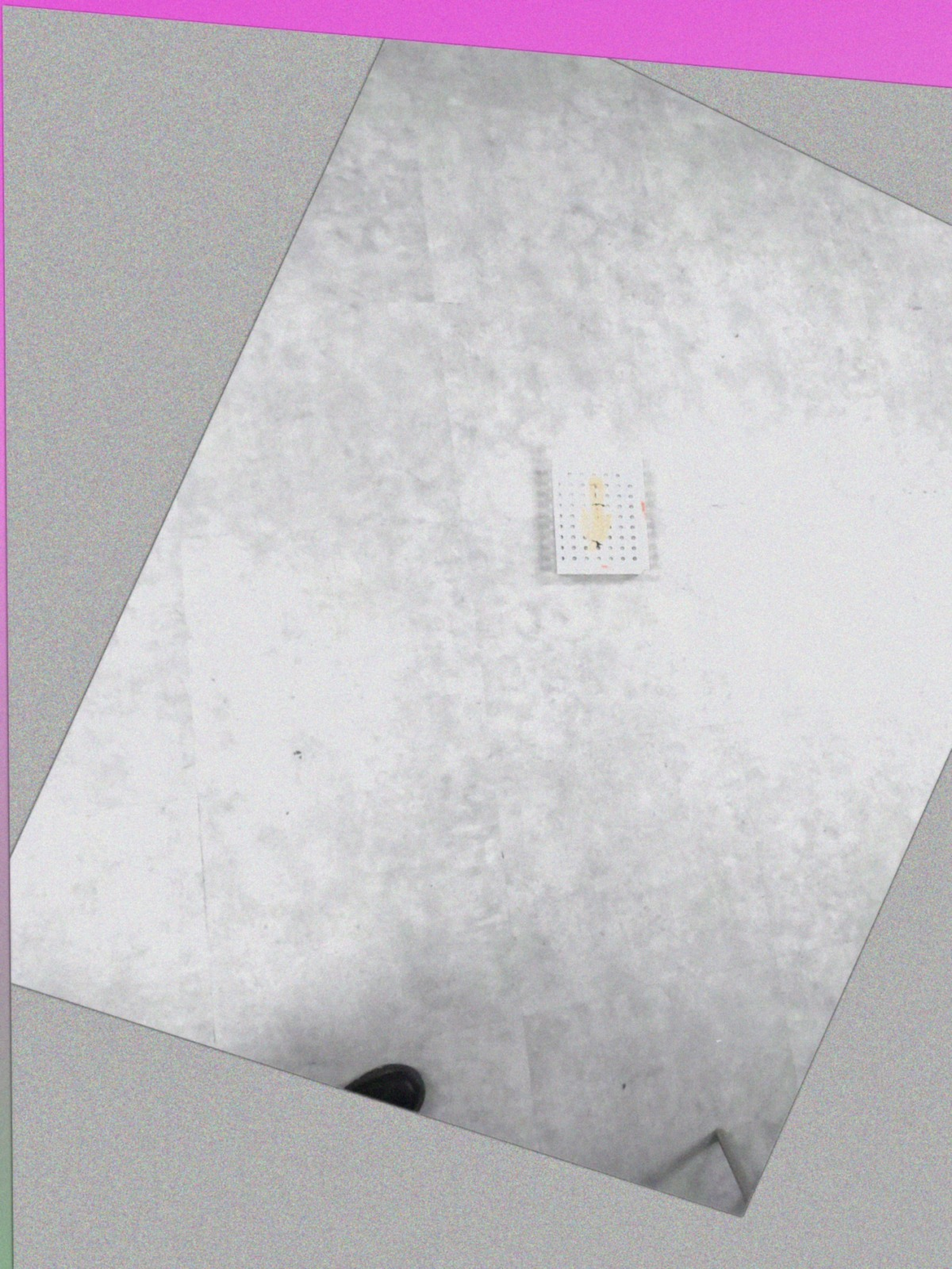basket: (547, 446, 655, 580)
mannequin: (578, 475, 613, 553)
